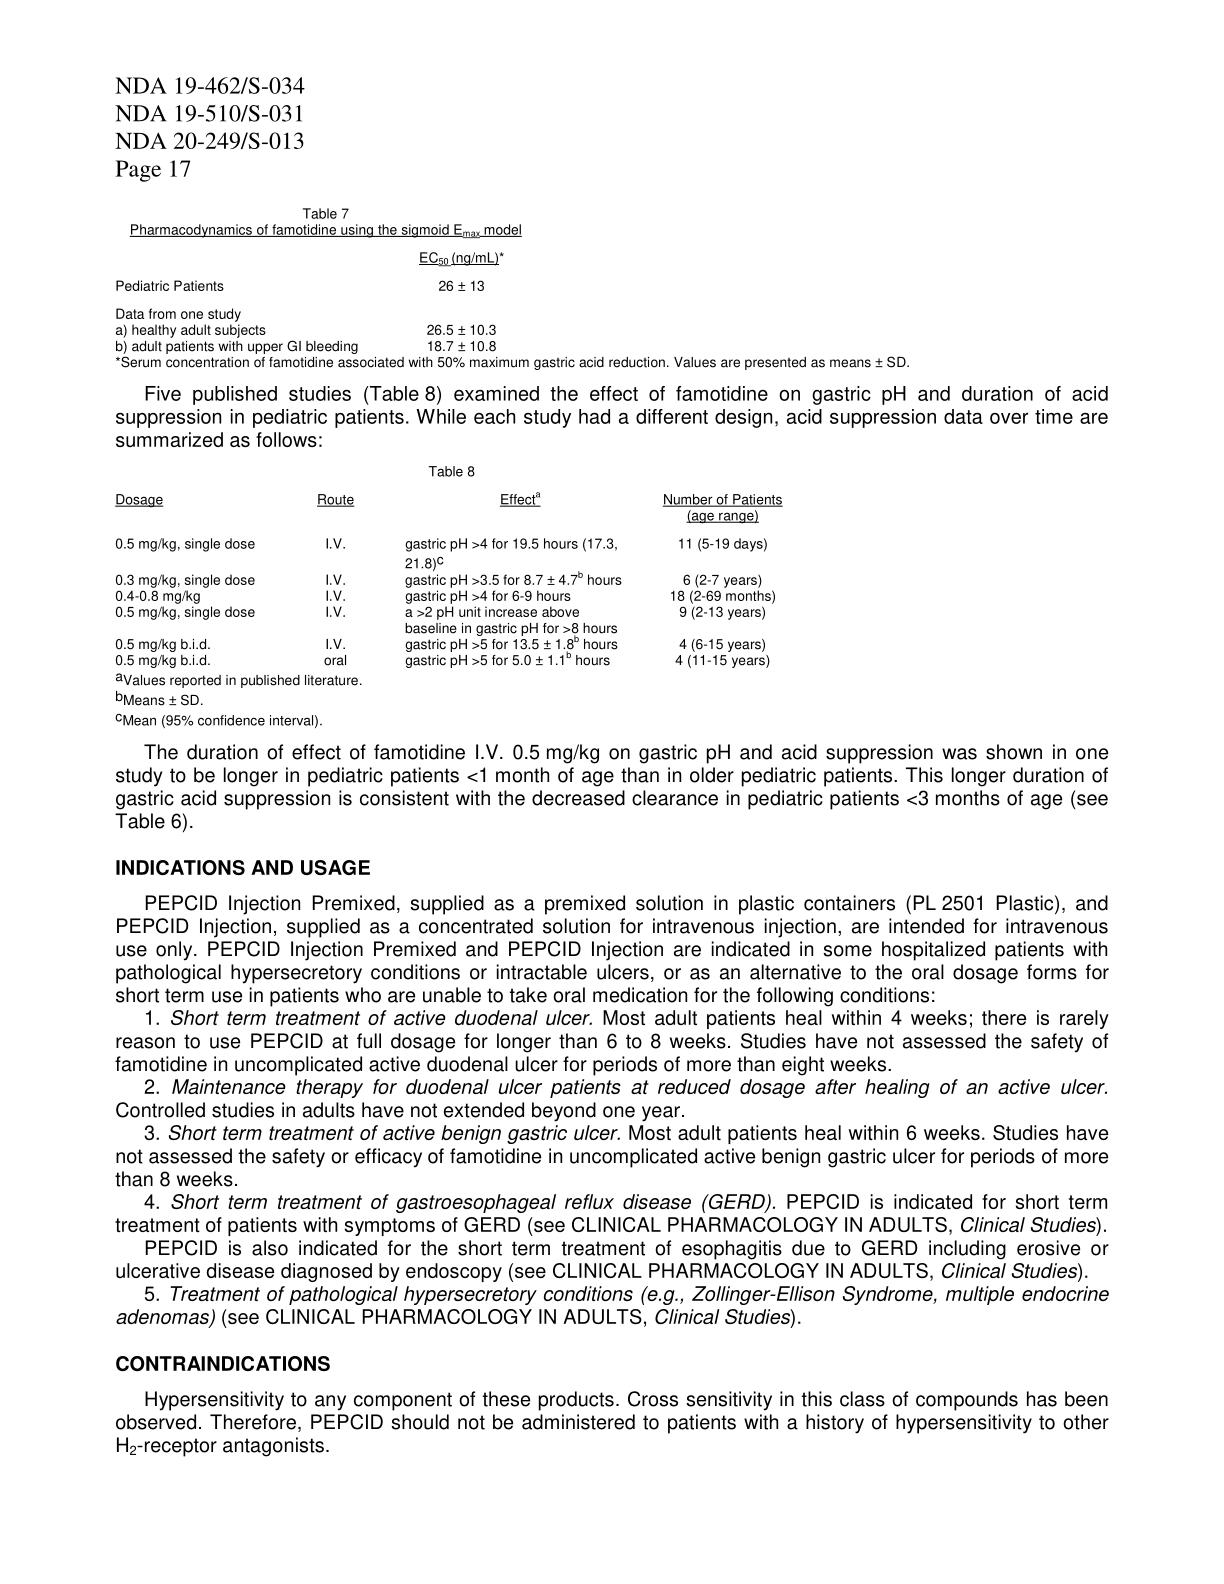nolines: (113, 490, 782, 672), (113, 249, 503, 352)
